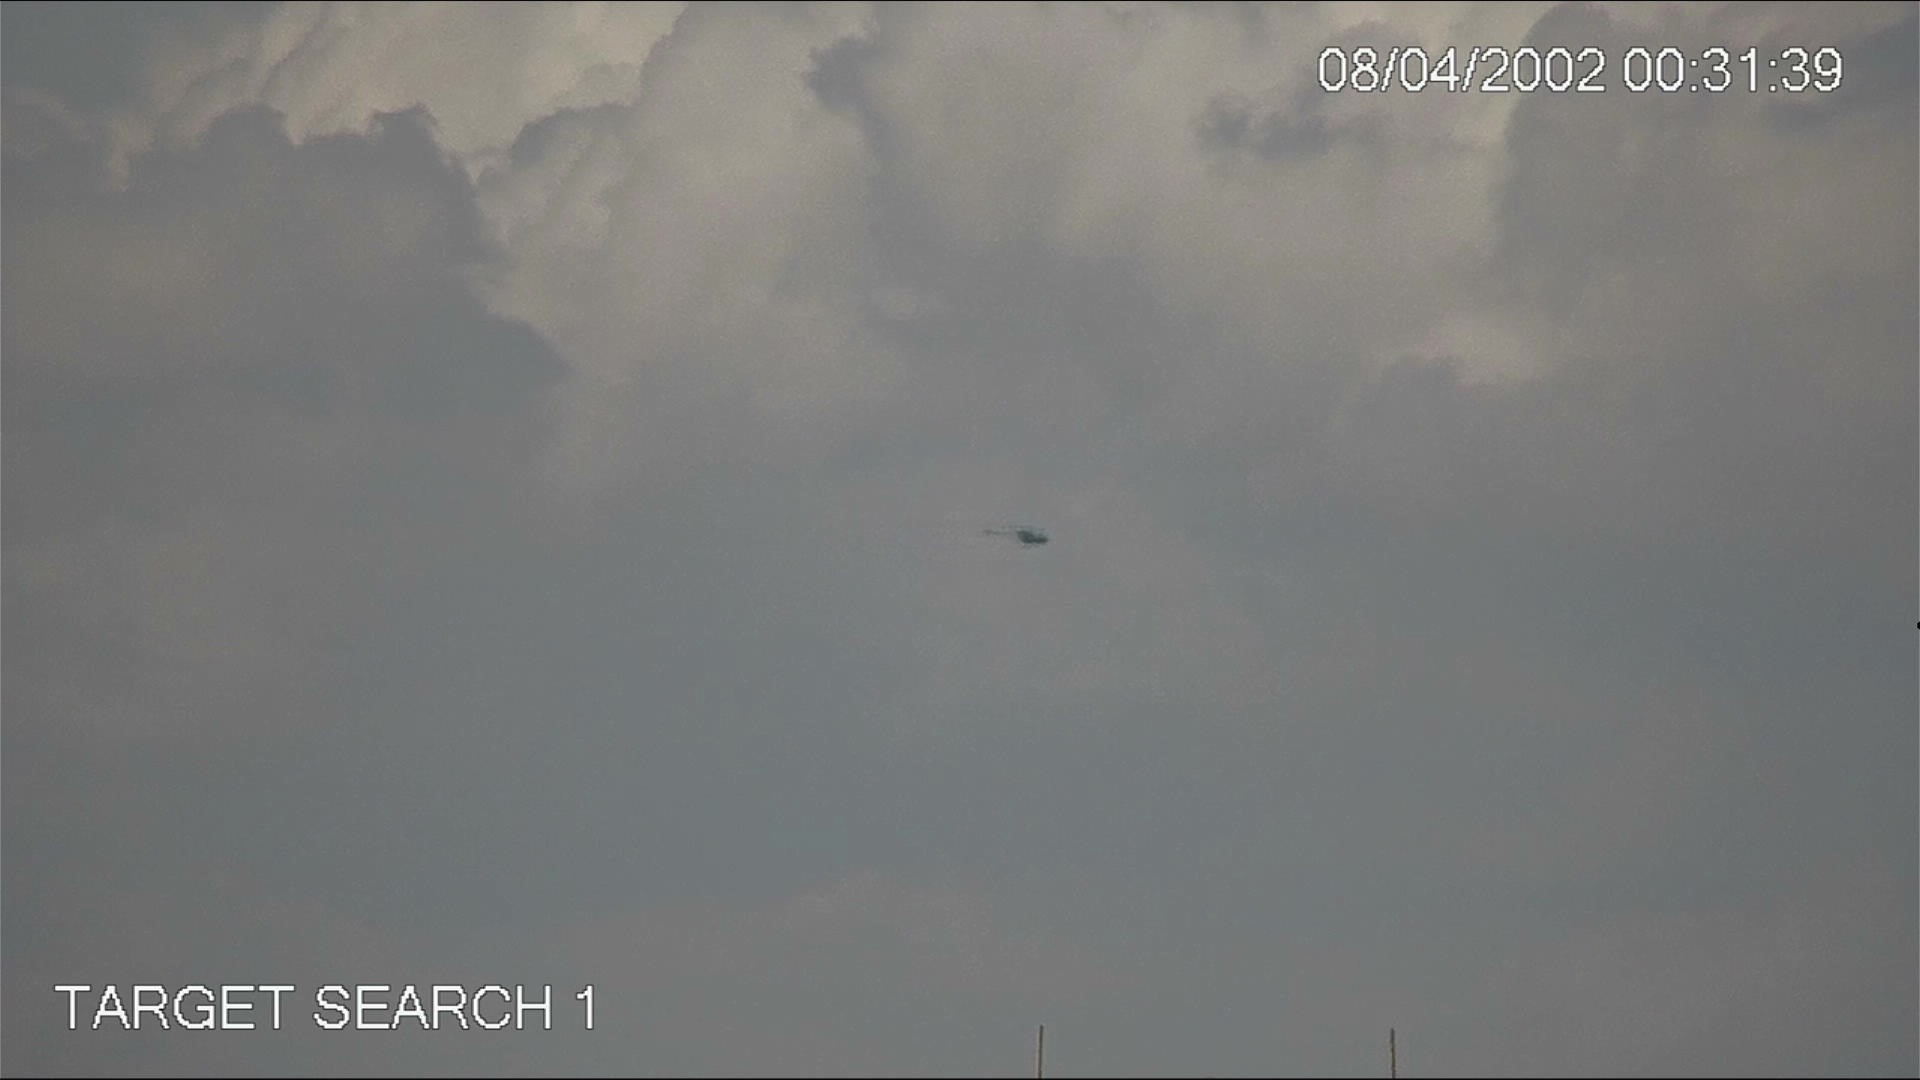SU_30: (975, 524, 1055, 553)
